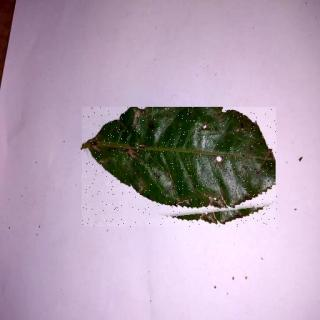Bird Eye Spot: (84, 109, 279, 229)
